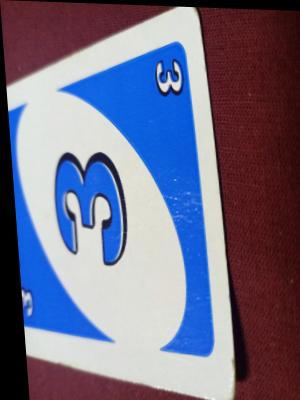blue: (9, 95, 214, 357)
num_3: (151, 52, 189, 101)
